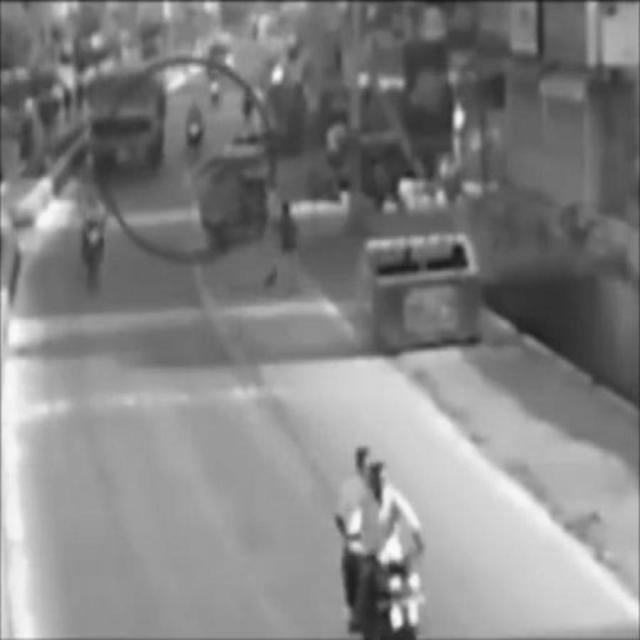person: (276, 199, 302, 299)
vehicle: (338, 445, 432, 640), (92, 75, 165, 175), (81, 195, 108, 286)
